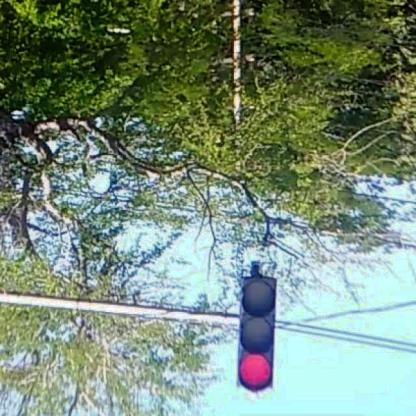Traffic Light -Red-: (239, 278, 276, 388)
